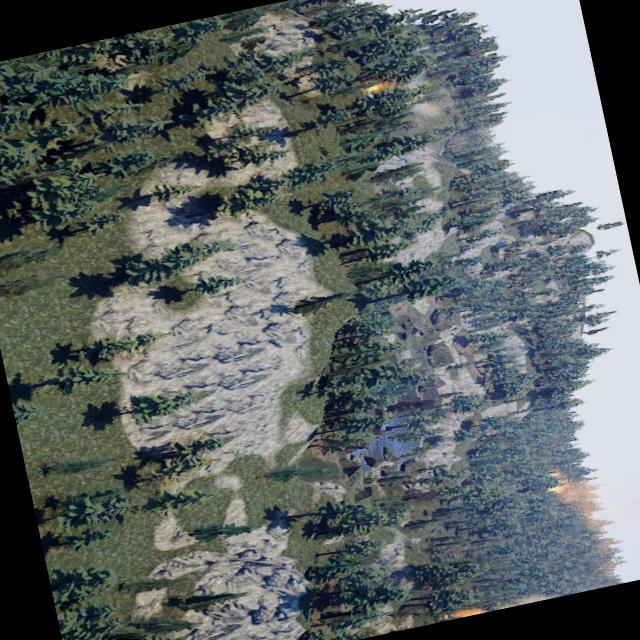fire: (438, 606, 484, 622), (543, 464, 566, 494), (361, 80, 387, 94)
smoke: (556, 476, 622, 578), (464, 588, 562, 616)
